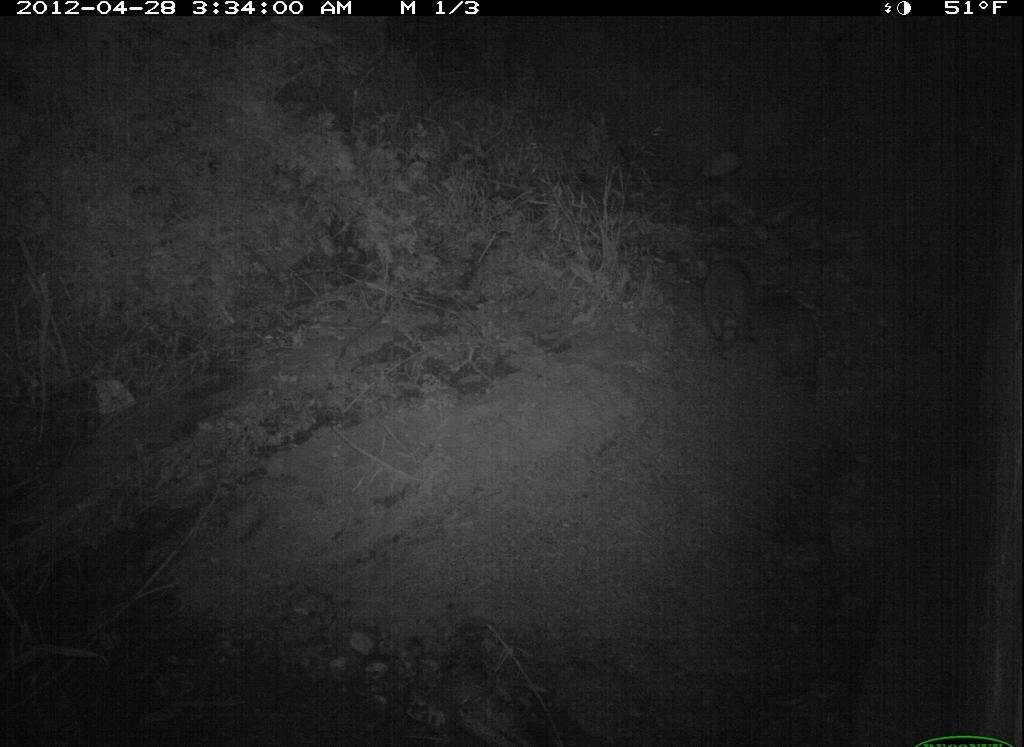raccoon: (753, 285, 840, 396), (692, 253, 774, 368)
